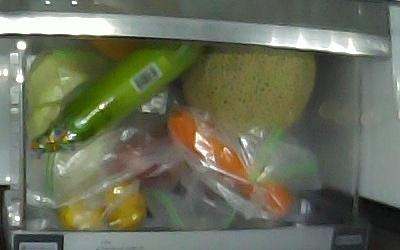carrot_vinyl: (168, 106, 293, 214), (24, 47, 114, 140)
melon: (182, 44, 316, 133)
pear: (89, 40, 145, 62)
prune_vinyl: (138, 123, 188, 178), (115, 141, 167, 186)
tangerine_vinyl: (101, 179, 146, 231), (59, 196, 102, 233)
zucchini: (31, 38, 205, 154)
